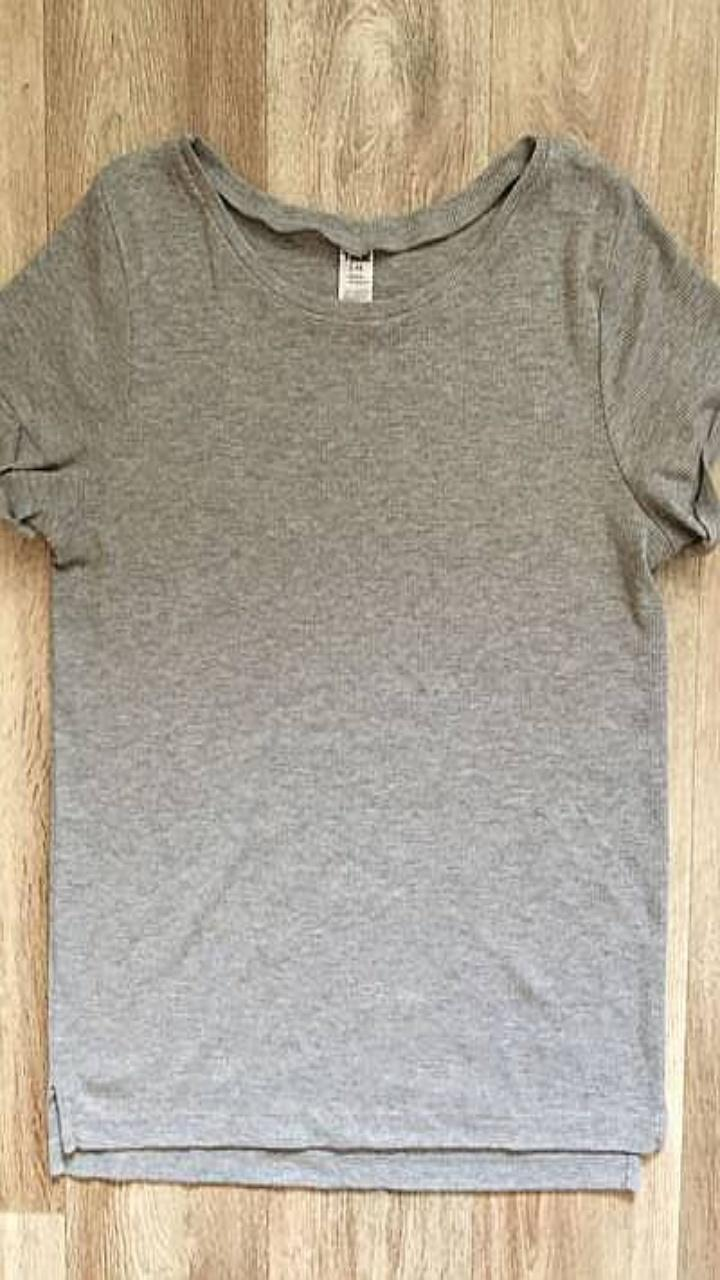T-Shirt: (0, 133, 719, 1189)
